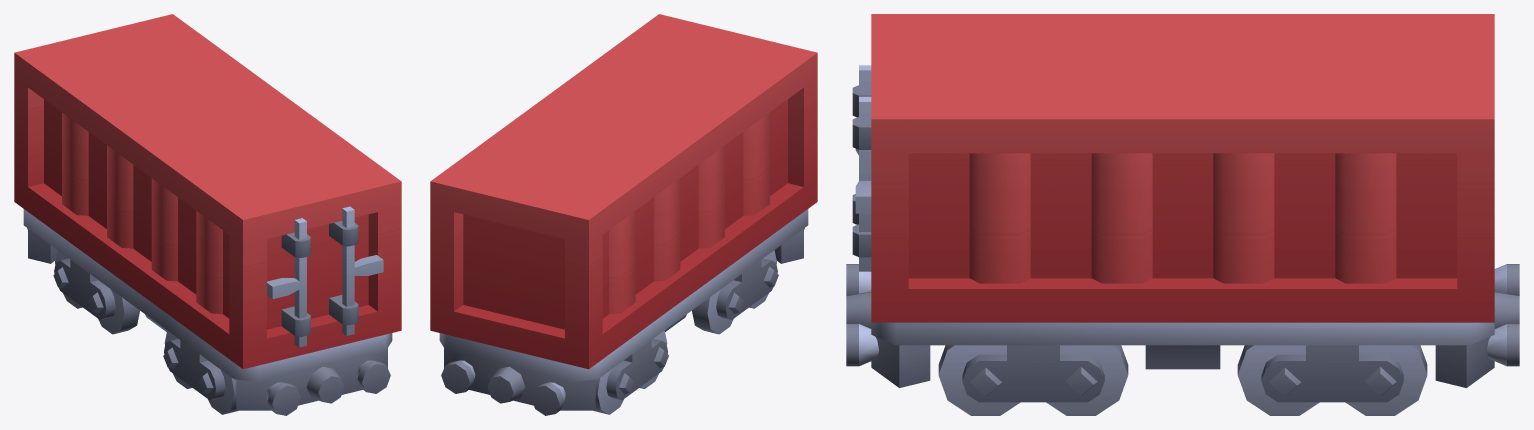
Rendered from train-carriage-container-red.glb.
The picture shows the model from 3 angles, left to right: view 1: azimuth 30°, elevation 25°; view 2: azimuth 150°, elevation 25°; view 3: azimuth 270°, elevation 25°; orthographic projection. The views are drawn at different scales.
Parts seen in each view (by area): view 1: train-carriage-container-red; view 2: train-carriage-container-red; view 3: train-carriage-container-red.
Boxes of the visible parts, <box> form: train-carriage-container-red: <box>14,14,401,415</box>; train-carriage-container-red: <box>430,14,817,415</box>; train-carriage-container-red: <box>846,14,1519,415</box>.
Bounding box in the file's own units: 1 × 1.36 × 2.7.
Materials: 1 (1 with a texture image).
